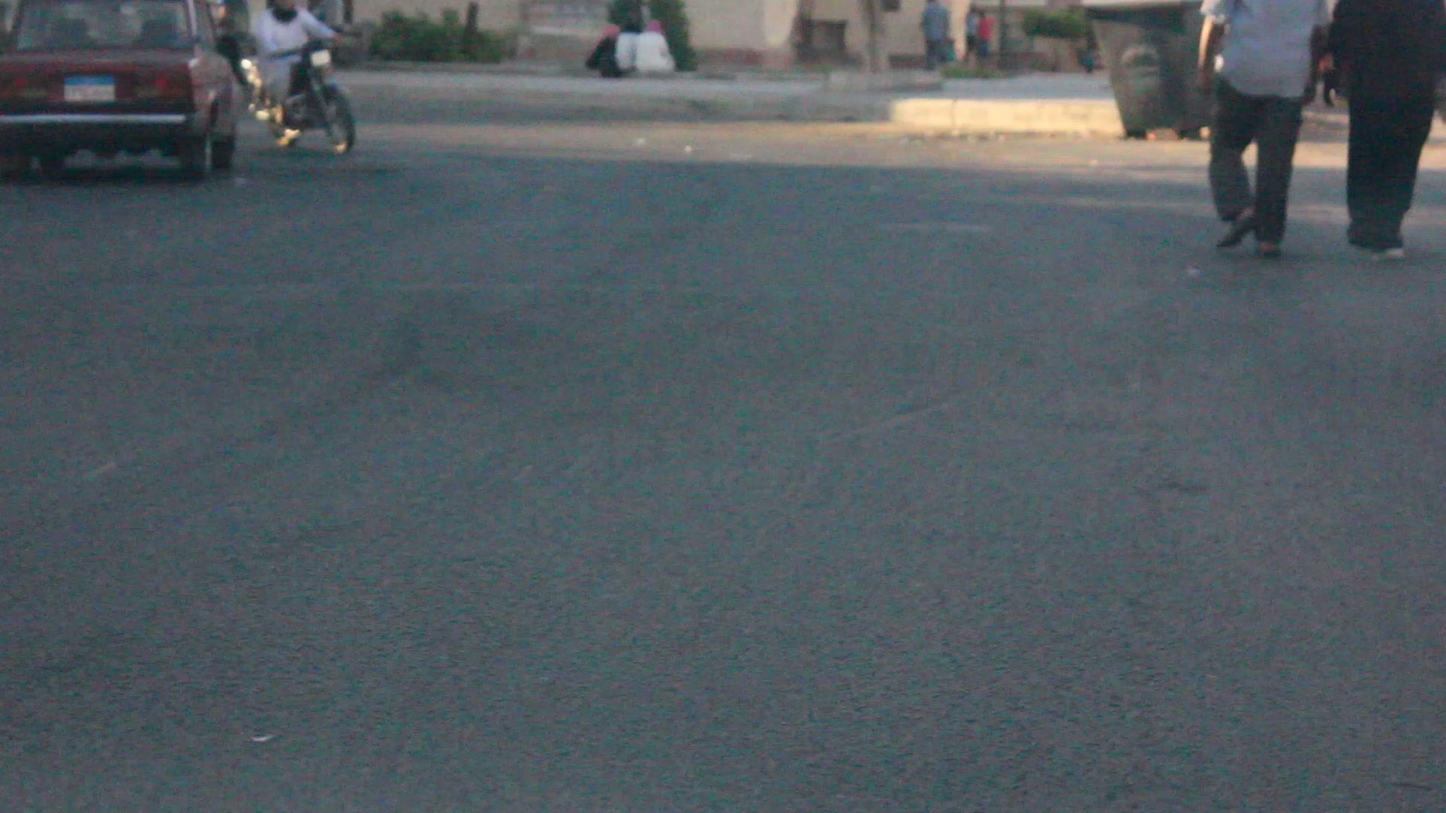Bump: (8, 273, 1446, 403)
